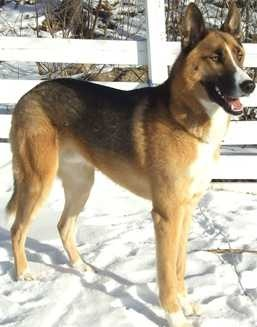dog: (13, 14, 245, 312)
